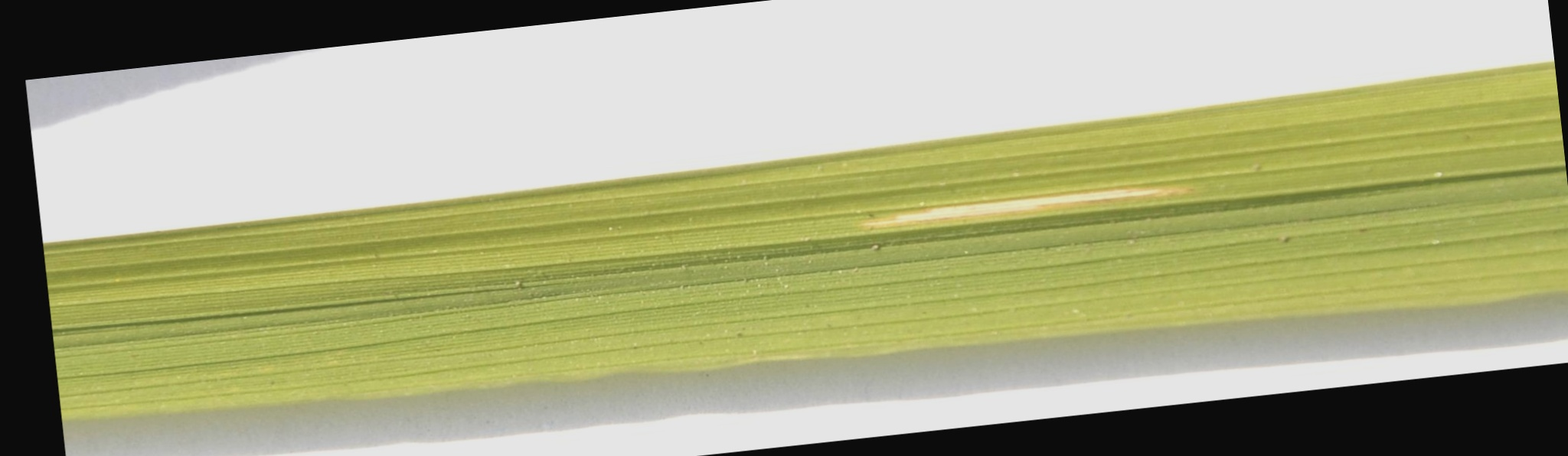Leaf_Blast: (641, 163, 1311, 278)
